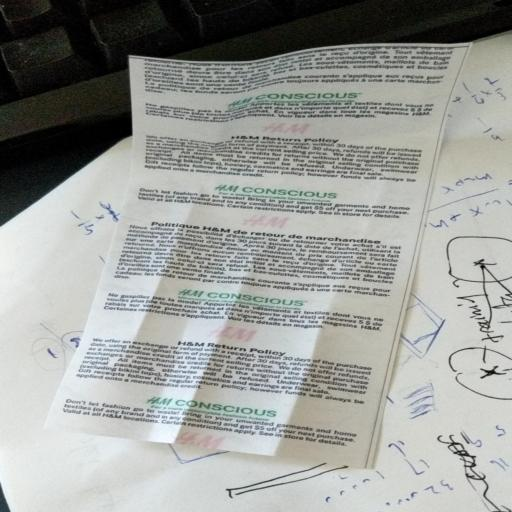paper: (49, 8, 512, 493)
